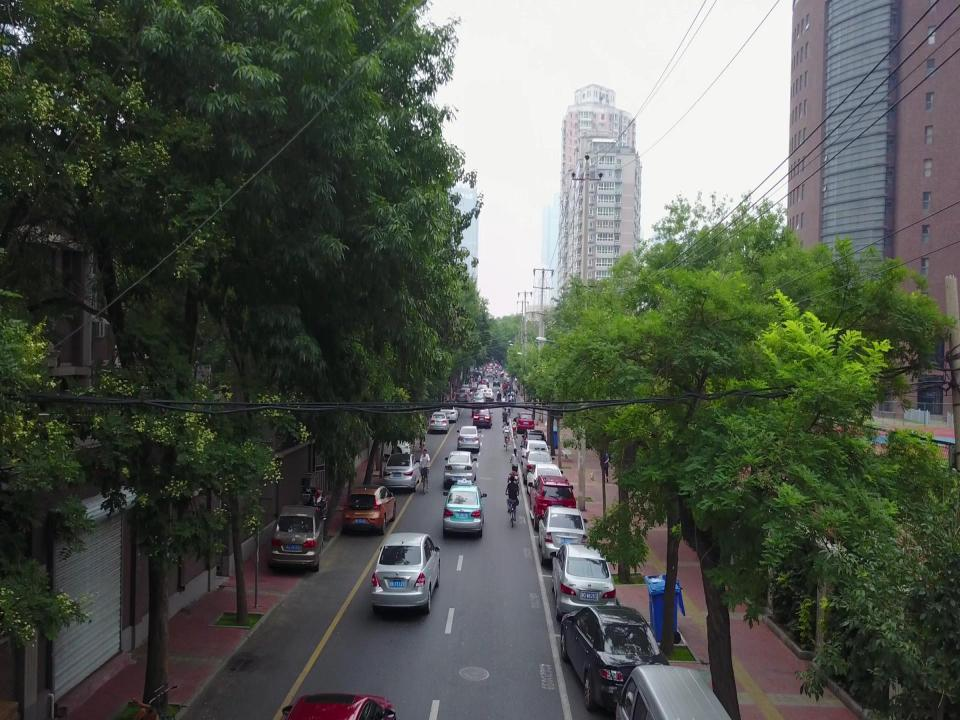car: (561, 604, 671, 716), (371, 534, 439, 613), (549, 545, 617, 622), (267, 505, 322, 570), (537, 508, 588, 566), (528, 475, 576, 529), (343, 487, 396, 532), (352, 423, 411, 459), (444, 481, 484, 534), (382, 452, 421, 493), (529, 464, 565, 501), (444, 450, 478, 489), (522, 451, 554, 486), (520, 431, 550, 459), (520, 440, 550, 467), (456, 426, 480, 452), (439, 403, 459, 424), (516, 413, 536, 432), (429, 414, 447, 434), (472, 409, 490, 428)
van: (612, 663, 735, 720)
